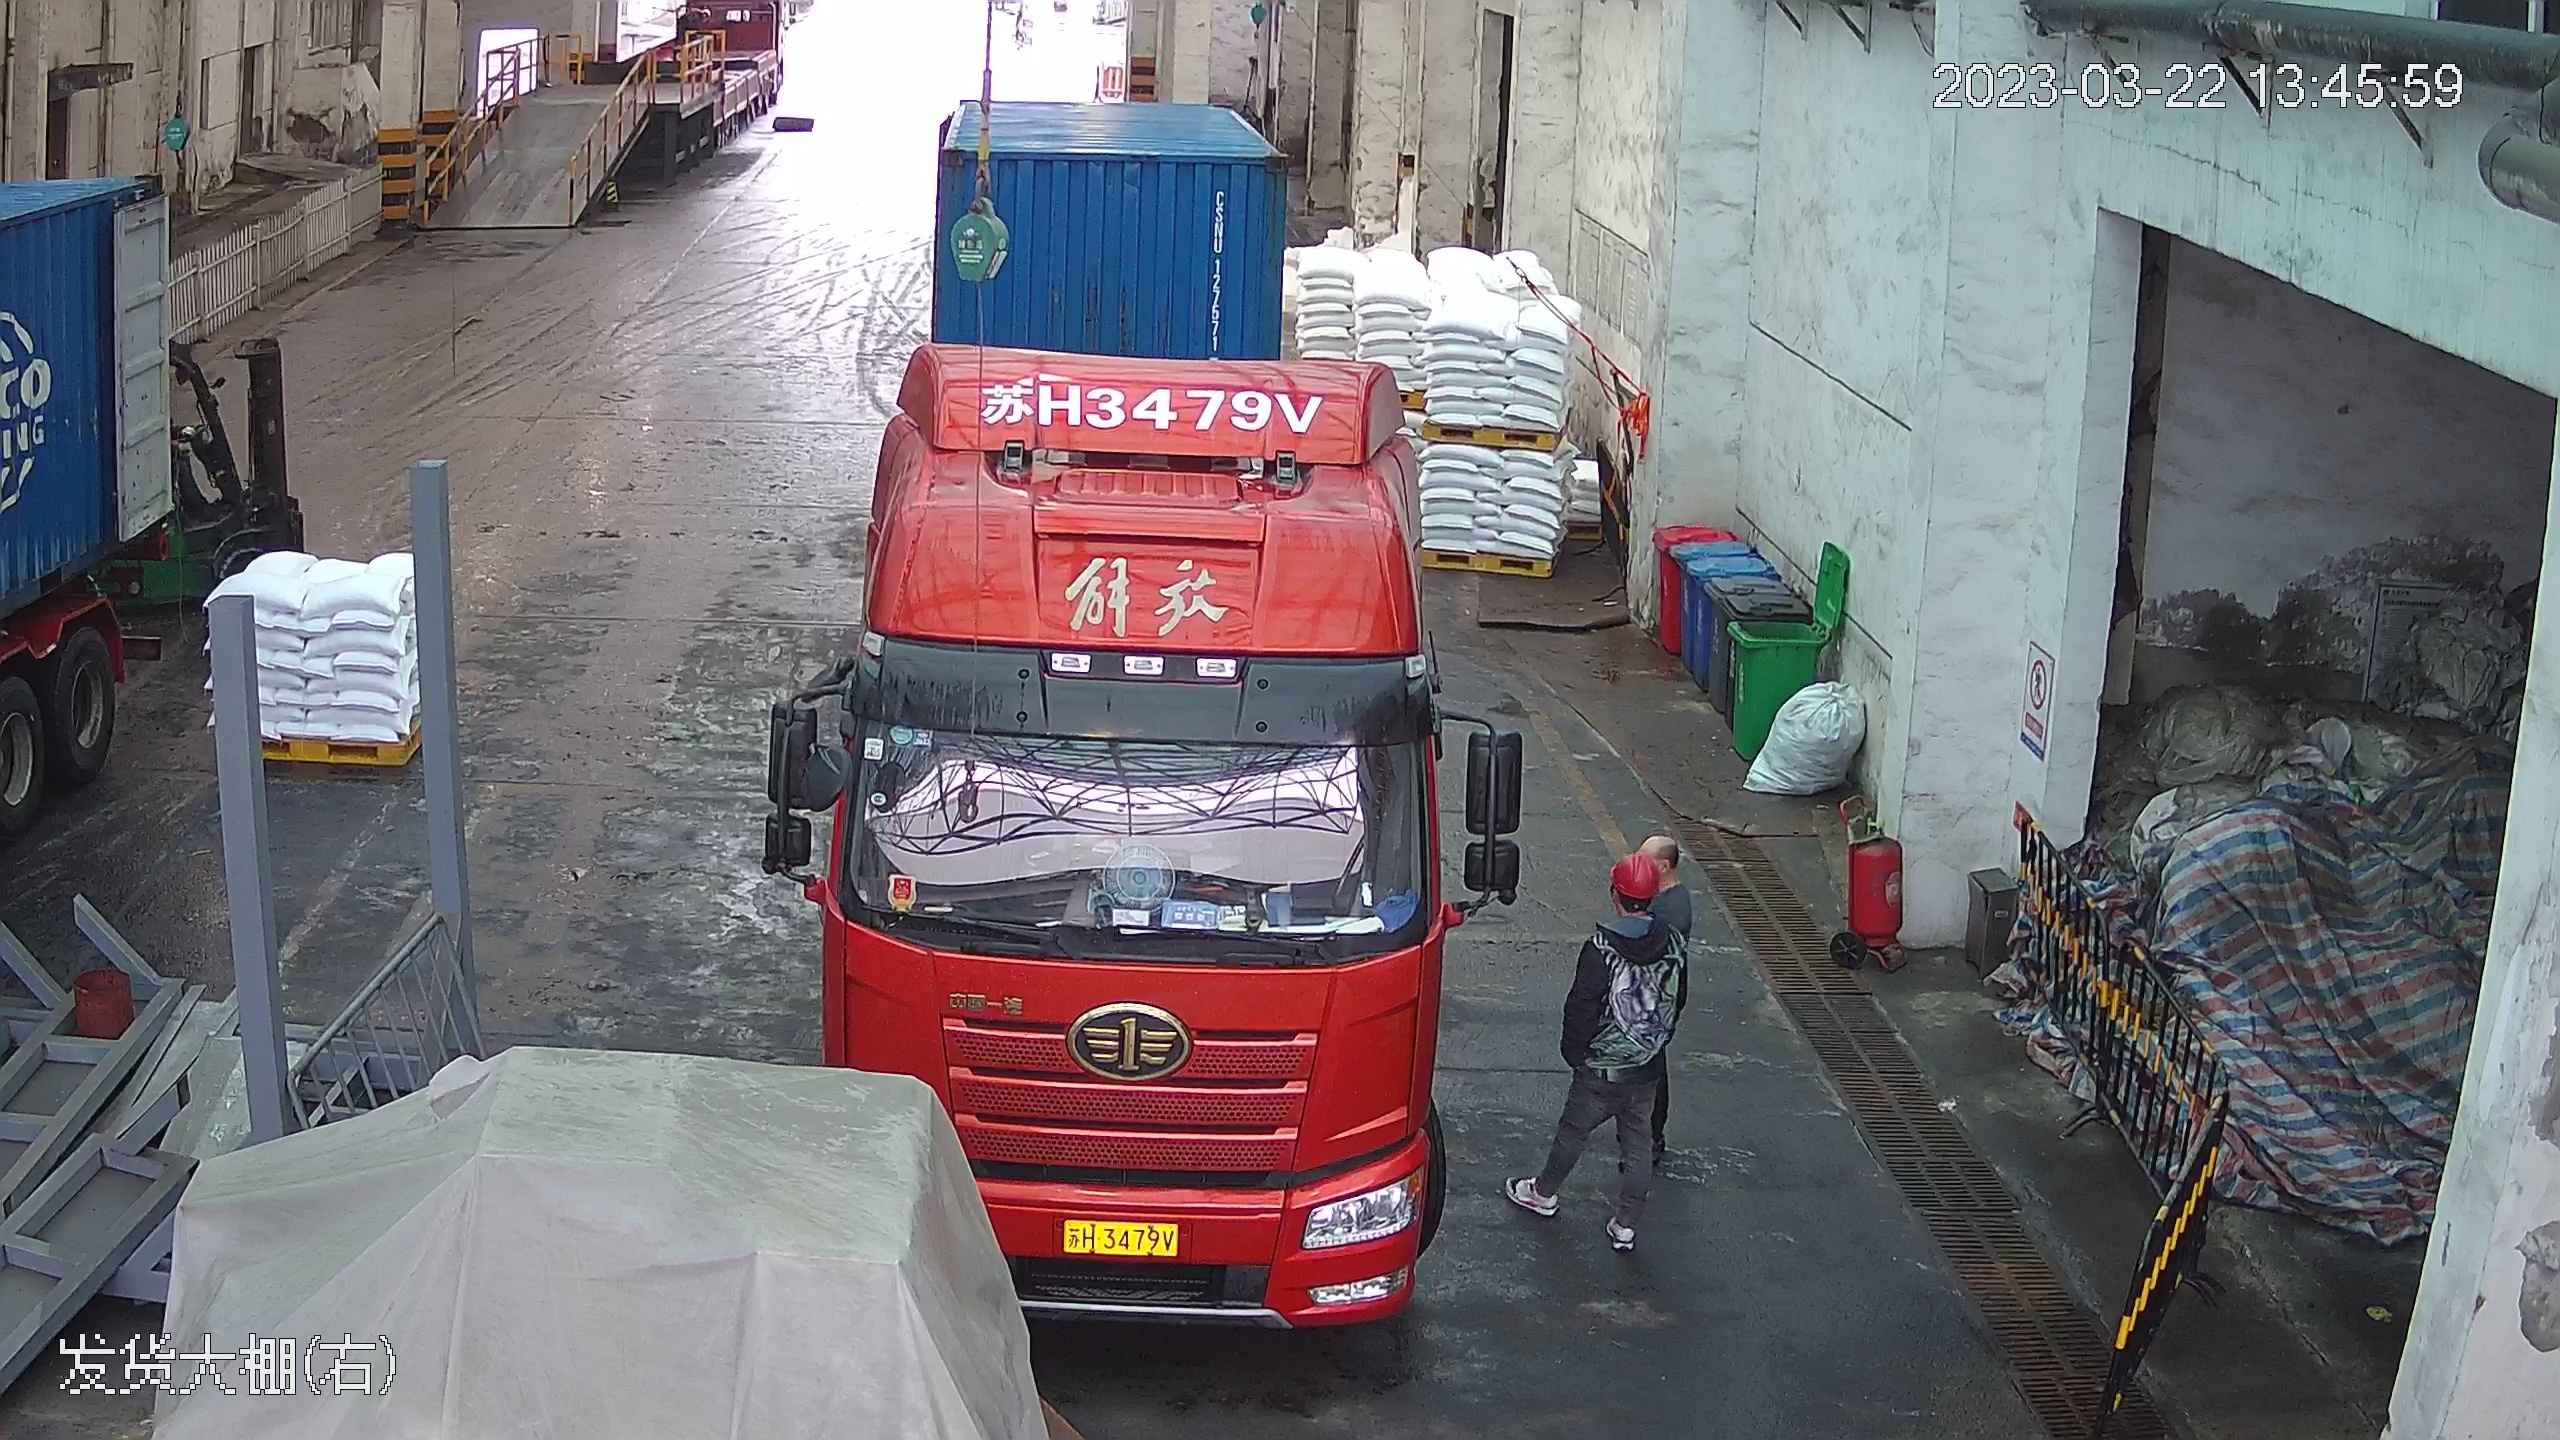head: (1575, 833, 1699, 980)
helmet: (1604, 850, 1662, 903)
people: (1501, 827, 1700, 1250)
truck: (790, 32, 1479, 1318), (1, 50, 156, 1009)
